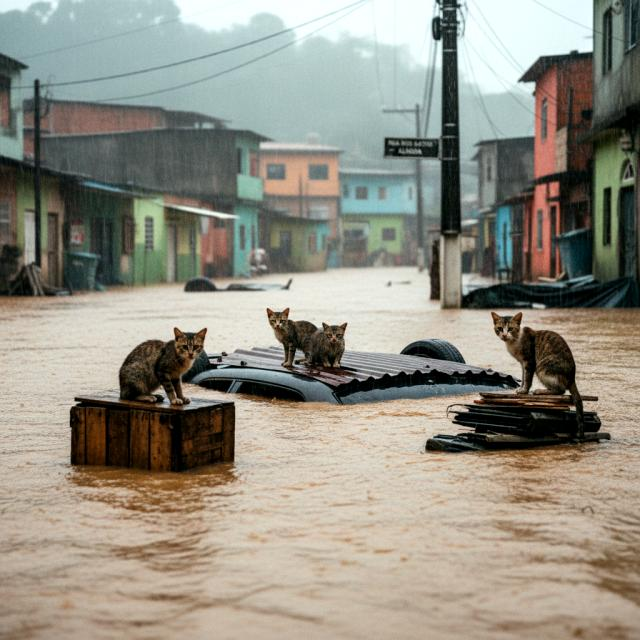cat: (489, 313, 593, 425), (110, 321, 212, 408), (264, 301, 318, 361), (303, 314, 357, 372)
